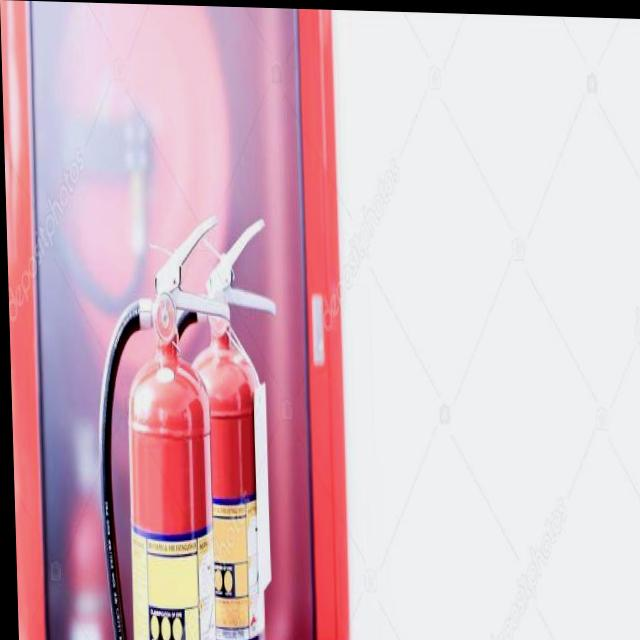FireExtinguisher: (84, 191, 239, 640), (154, 207, 286, 640)
